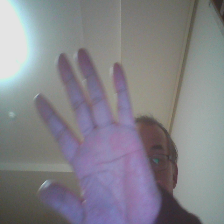hand: (28, 54, 162, 223)
